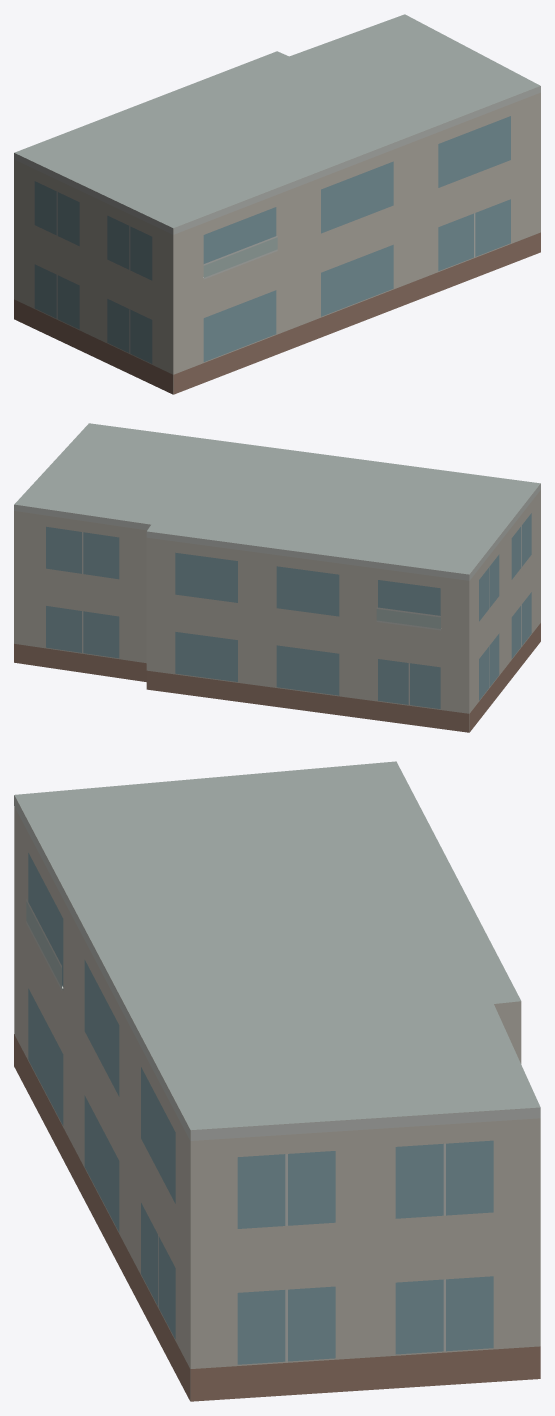
The model's file is survey-upis-32993188.glb.
3 views of the same model, one above another, from view 1: azimuth 30°, elevation 25°; view 2: azimuth 150°, elevation 25°; view 3: azimuth 270°, elevation 25° (orthographic). The views are drawn at different scales.
Parts seen in each view (by area): view 1: survey-upis-32993188.tmp; view 2: survey-upis-32993188.tmp; view 3: survey-upis-32993188.tmp.
Boxes of the visible parts, <box> form: survey-upis-32993188.tmp: <box>14,14,540,394</box>; survey-upis-32993188.tmp: <box>14,423,540,732</box>; survey-upis-32993188.tmp: <box>14,761,540,1401</box>.
Size of the model in its own units: 17.79 by 6.1 by 10.74.
